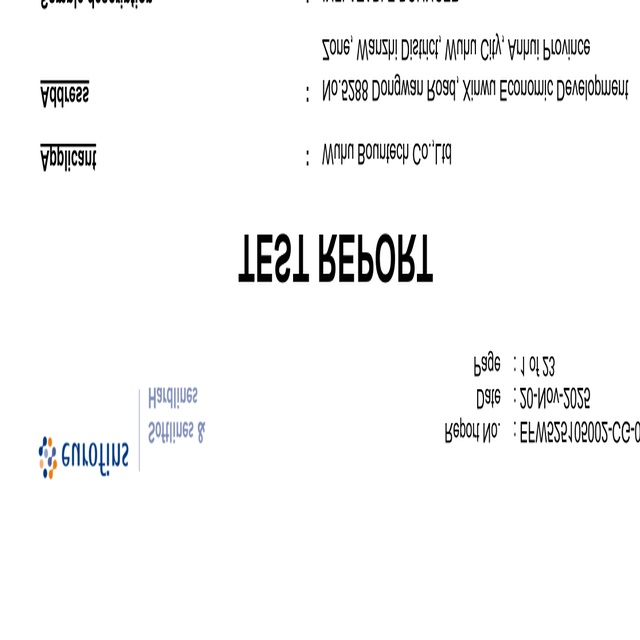eurofins: (32, 429, 132, 494)
